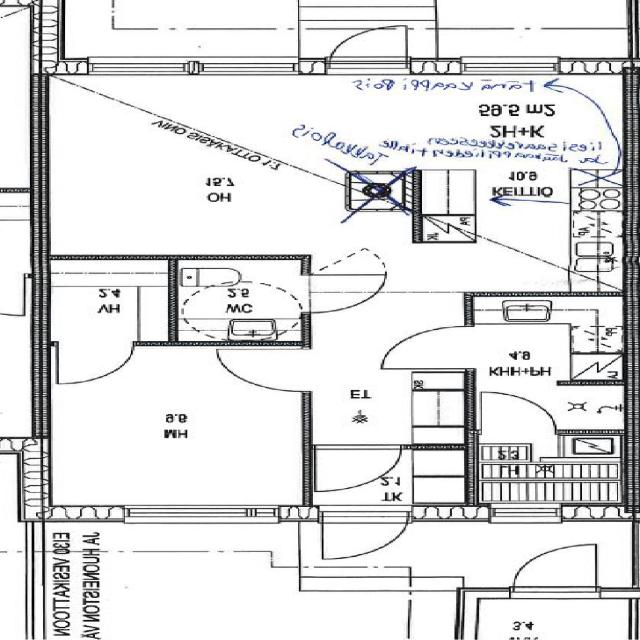door: (323, 506, 409, 564), (330, 19, 408, 75), (514, 547, 596, 598), (315, 444, 401, 492), (382, 326, 476, 368), (218, 349, 311, 391), (303, 275, 386, 312), (482, 392, 556, 433), (58, 341, 130, 382)
